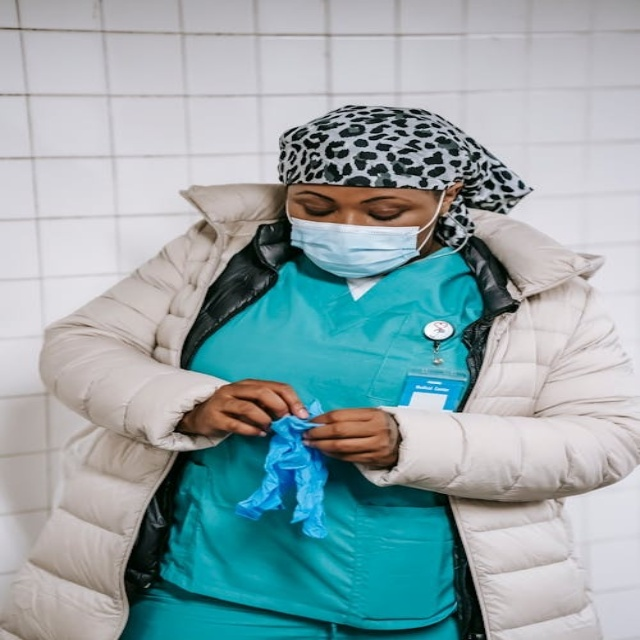Mascara: (289, 189, 447, 277)
Sin_gafas: (289, 185, 416, 225)
Sin_guantes: (183, 377, 313, 441), (295, 406, 403, 470)
